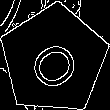O_NE: (22, 28, 86, 91)
